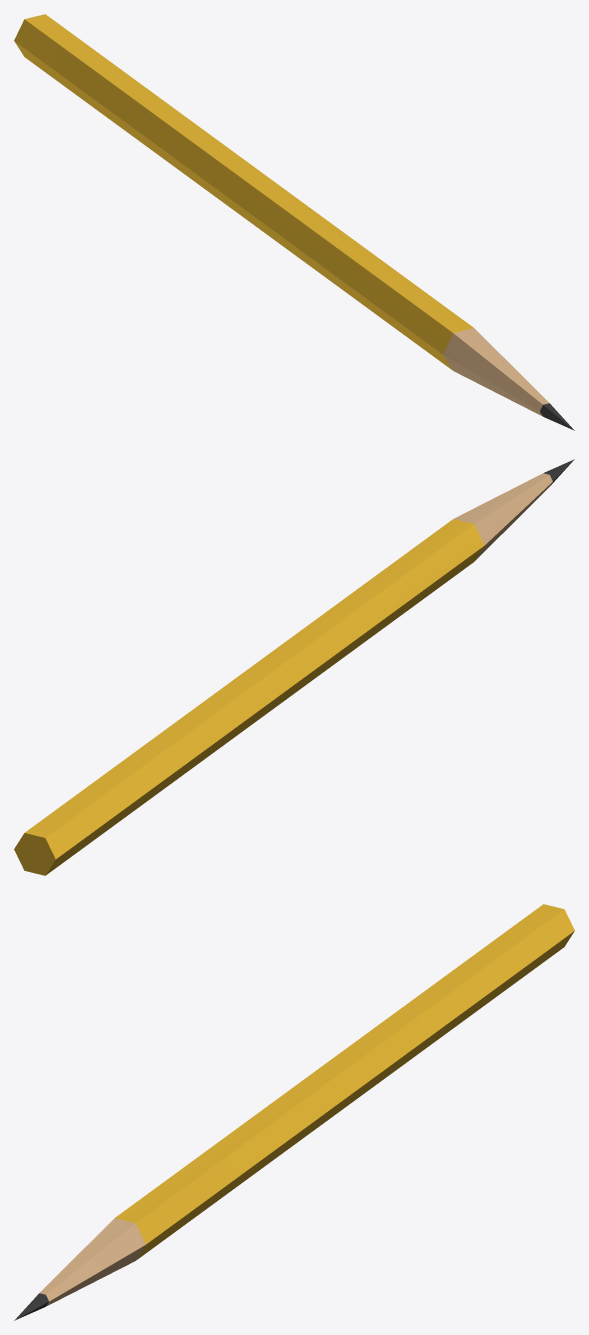
File: pencil.glb
3 views of the same model, one above another, from view 1: azimuth 30°, elevation 25°; view 2: azimuth 150°, elevation 25°; view 3: azimuth 330°, elevation 25° (orthographic).
Parts seen in each view (by area): view 1: pencil; view 2: pencil; view 3: pencil.
Boxes of the visible parts, box(x1,y1,x2,y2) form: pencil: box(14, 14, 574, 430); pencil: box(14, 459, 574, 875); pencil: box(14, 904, 574, 1320).
Size of the model in its own units: 0.0076 by 0.00658 by 0.17.
